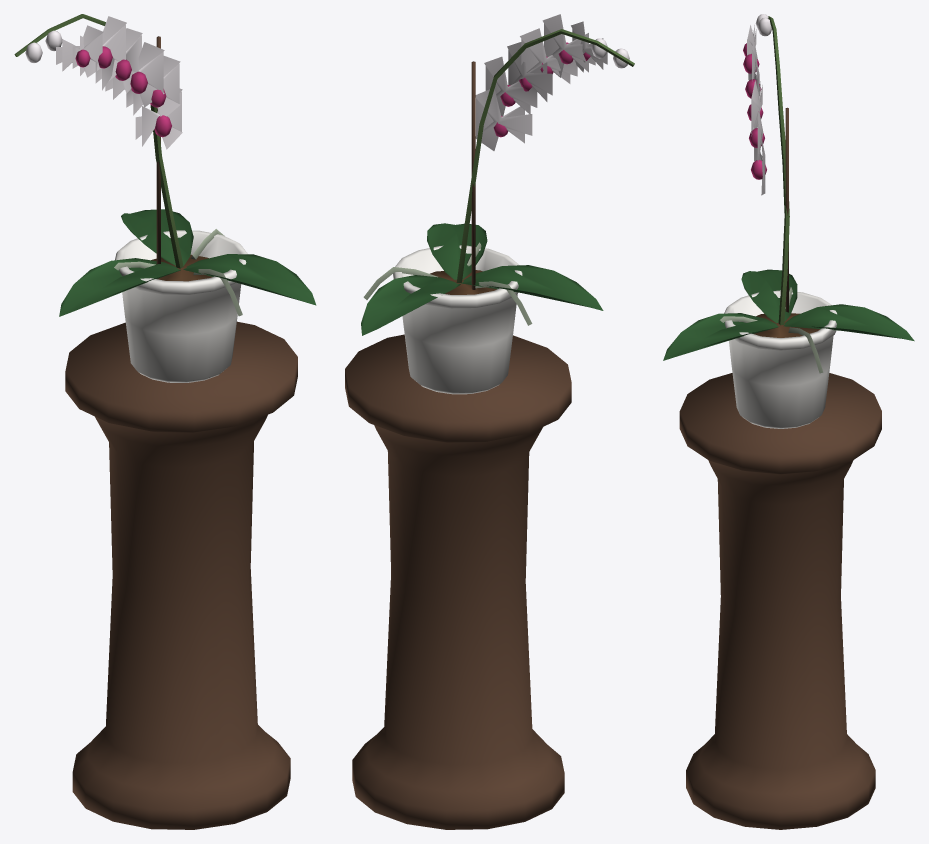
Rendered from orchid.glb.
3 views of the same model, side by side, from view 1: azimuth 30°, elevation 25°; view 2: azimuth 150°, elevation 25°; view 3: azimuth 270°, elevation 25° (orthographic). The views are drawn at different scales.
Parts seen in each view (by area): view 1: orchid; view 2: orchid; view 3: orchid.
Part boxes in pixels (<box>): orchid: <box>14,14,316,829</box>; orchid: <box>345,14,634,829</box>; orchid: <box>663,14,914,829</box>.
Bounding box in the file's own units: 0.431 × 1.2 × 0.381.
